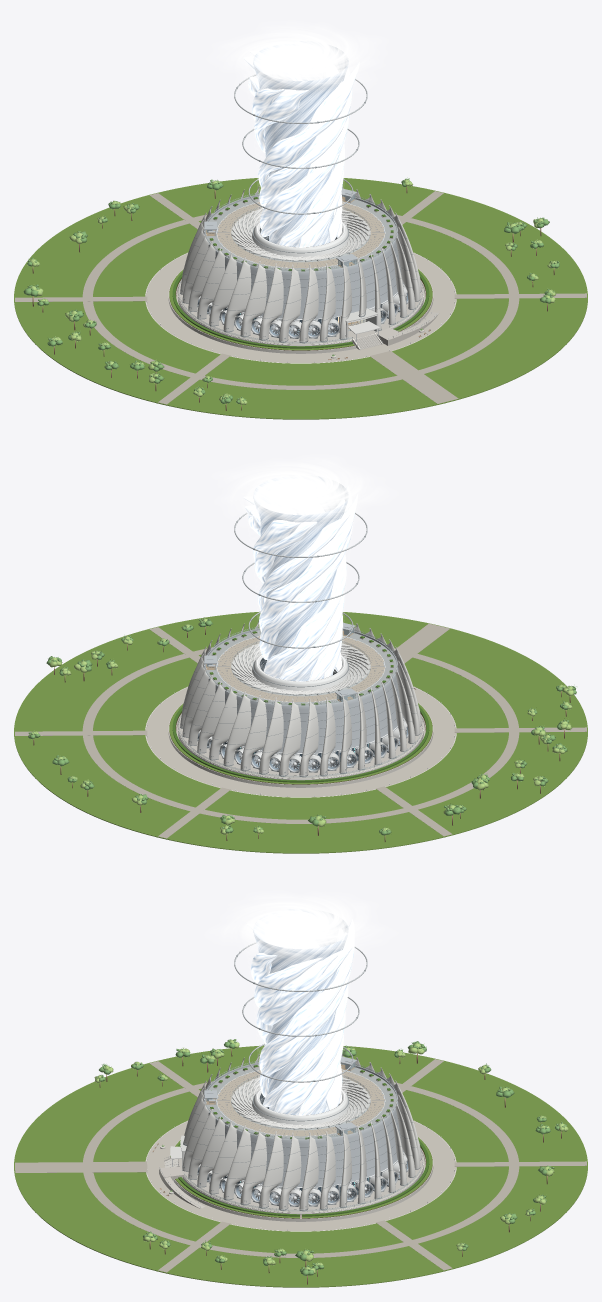
File: q11c-vortex-power-station.glb
The picture shows the model from 3 angles, top to bottom: view 1: azimuth 30°, elevation 25°; view 2: azimuth 150°, elevation 25°; view 3: azimuth 270°, elevation 25°; orthographic projection.
Parts seen in each view (by area): view 1: PLAZA_GROUND, VORTEX_ROPES, CLOUD_WISP, STATION_DECK, STATION_DRUM, VORTEX_CORE, STATION_ROOF, STATION_PODIUM, CLOUD_DISC, VANE_210, VANE_200, VANE_220 (+11 smaller); view 2: PLAZA_GROUND, VORTEX_ROPES, CLOUD_WISP, STATION_DECK, STATION_DRUM, VORTEX_CORE, STATION_ROOF, STATION_PODIUM, CLOUD_DISC, VANE_090, VANE_080, VANE_100 (+10 smaller); view 3: PLAZA_GROUND, VORTEX_ROPES, CLOUD_WISP, STATION_DECK, STATION_DRUM, STATION_ROOF, VORTEX_CORE, STATION_PODIUM, CLOUD_DISC, VANE_330, VANE_320, VANE_340 (+10 smaller).
Boxes of the visible parts, left/top/right/bottom form: PLAZA_GROUND: left=14, top=178, right=587, bottom=419; VORTEX_ROPES: left=243, top=51, right=359, bottom=247; CLOUD_WISP: left=216, top=22, right=381, bottom=91; STATION_DECK: left=204, top=188, right=397, bottom=271; STATION_DRUM: left=203, top=194, right=403, bottom=319; VORTEX_CORE: left=253, top=41, right=348, bottom=247; STATION_ROOF: left=231, top=208, right=370, bottom=262; STATION_PODIUM: left=178, top=280, right=423, bottom=346; CLOUD_DISC: left=250, top=44, right=350, bottom=84; VANE_210: left=240, top=261, right=266, bottom=337; VANE_200: left=223, top=257, right=251, bottom=332; VANE_220: left=259, top=263, right=283, bottom=340; PLAZA_GROUND: left=14, top=611, right=587, bottom=853; VORTEX_ROPES: left=243, top=484, right=357, bottom=680; CLOUD_WISP: left=219, top=457, right=389, bottom=528; STATION_DECK: left=204, top=622, right=397, bottom=705; STATION_DRUM: left=203, top=628, right=403, bottom=753; VORTEX_CORE: left=253, top=476, right=347, bottom=681; STATION_ROOF: left=231, top=643, right=370, bottom=696; STATION_PODIUM: left=178, top=714, right=423, bottom=780; CLOUD_DISC: left=253, top=480, right=354, bottom=519; VANE_090: left=240, top=695, right=266, bottom=771; VANE_080: left=223, top=691, right=251, bottom=766; VANE_100: left=259, top=697, right=283, bottom=774; PLAZA_GROUND: left=14, top=1045, right=587, bottom=1287; VORTEX_ROPES: left=247, top=917, right=354, bottom=1115; CLOUD_WISP: left=209, top=893, right=384, bottom=966; STATION_DECK: left=204, top=1056, right=397, bottom=1139; STATION_DRUM: left=203, top=1062, right=403, bottom=1187; STATION_ROOF: left=231, top=1077, right=370, bottom=1130; VORTEX_CORE: left=253, top=909, right=348, bottom=1115; STATION_PODIUM: left=178, top=1149, right=423, bottom=1215; CLOUD_DISC: left=253, top=911, right=352, bottom=954; VANE_330: left=240, top=1129, right=266, bottom=1205; VANE_320: left=223, top=1125, right=251, bottom=1200; VANE_340: left=259, top=1131, right=283, bottom=1208.
Bounding box in the file's own units: 282 × 131 × 280.
Materials: 56 (6 with a texture image).
